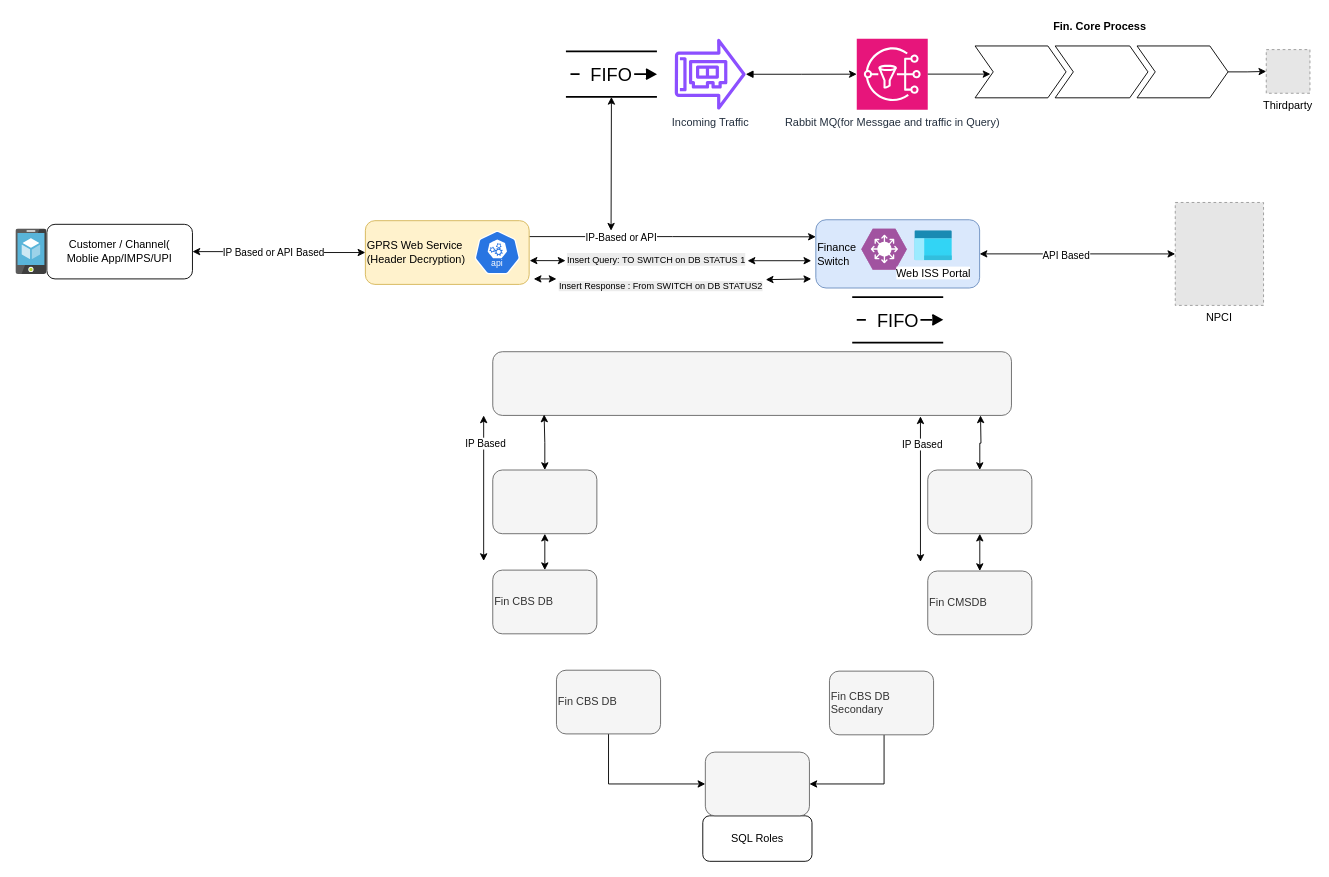
This 1329x877 diagram has some shape labels left out. Grey dashed boxes stand in for pictures. The centre of each missing label's shape, as x and y in pixels:
"Destination CBS" belongs at (1182,71).
"Failover Virtual IP" belongs at (756,783).
"Fin CBS Web" belongs at (544,501).
"Fin CMS" belongs at (979,501).
"Finance Switch Plugin" belongs at (751,383).
"From URL" belongs at (1020,71).
"Global (Middle Ware)" belongs at (1101,71).
